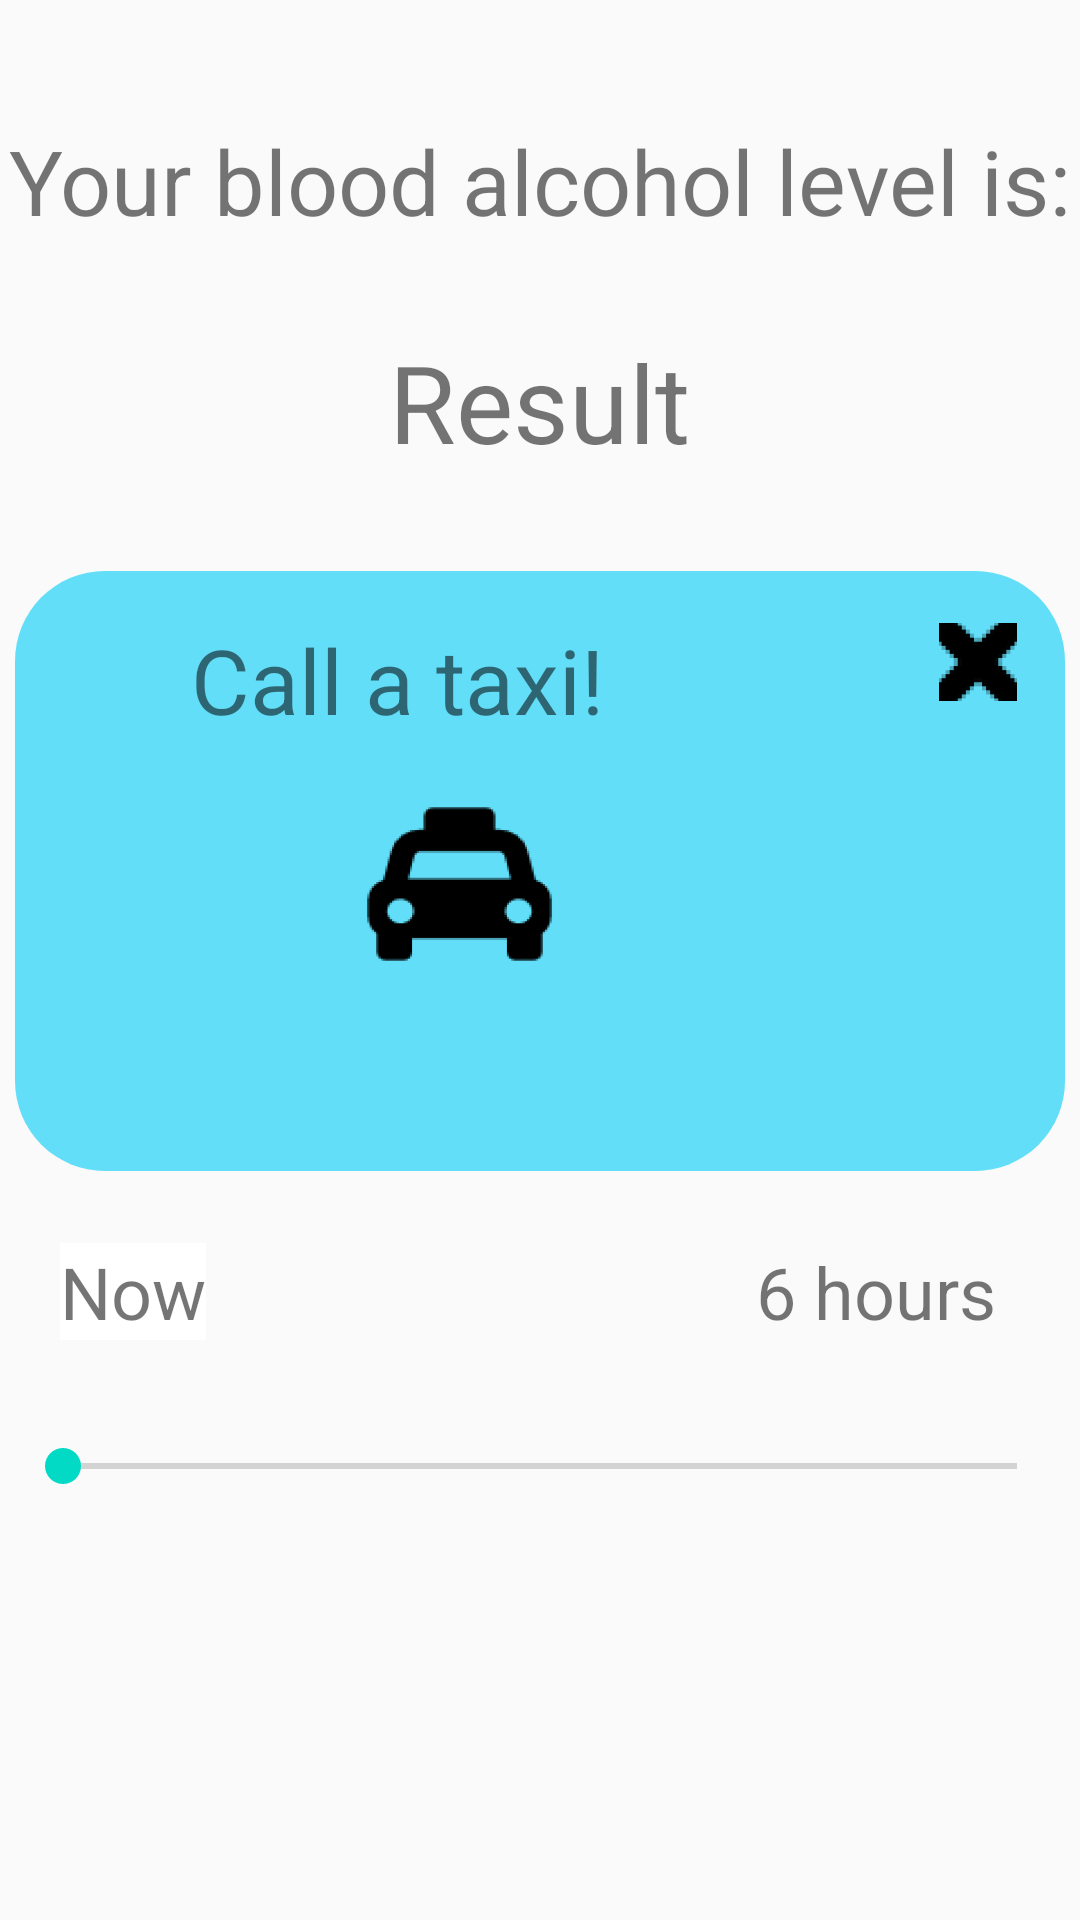

Where to tap for icons on this 1080x1920 app screen, as (x=x, y=y):
close: (x=978, y=662)
